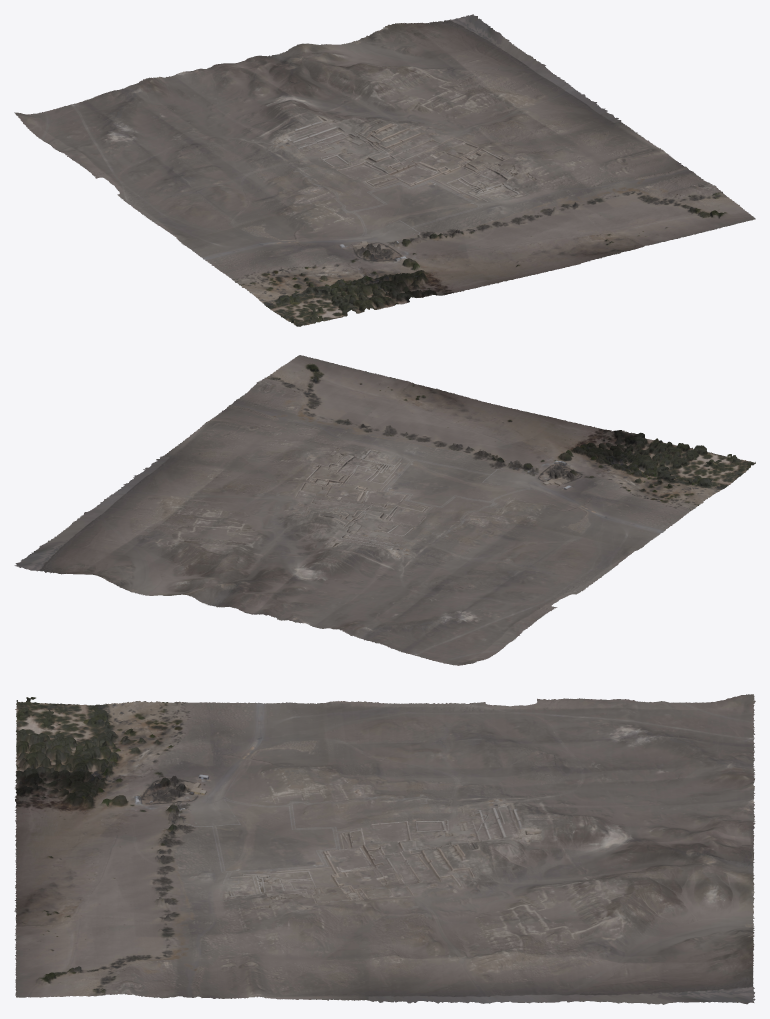
The model's file is sitio_arqueologico_cahuachi.glb.
The picture shows the model from 3 angles, top to bottom: view 1: azimuth 30°, elevation 25°; view 2: azimuth 150°, elevation 25°; view 3: azimuth 270°, elevation 25°; orthographic projection. The views are drawn at different scales.
Parts seen in each view (by area): view 1: Object_2, Object_4, Object_3, Object_5; view 2: Object_2, Object_4, Object_3, Object_5; view 3: Object_2, Object_4, Object_3, Object_5.
Part boxes in pixels (box(x1,y1,x2,y2)): Object_2: box(14, 14, 755, 295); Object_4: box(61, 15, 744, 322); Object_3: box(26, 23, 659, 292); Object_5: box(273, 148, 681, 326); Object_2: box(14, 355, 730, 665); Object_4: box(19, 363, 752, 633); Object_3: box(27, 425, 699, 663); Object_5: box(202, 406, 755, 485); Object_2: box(14, 694, 755, 1004); Object_4: box(15, 697, 755, 1002); Object_3: box(67, 700, 754, 1004); Object_5: box(15, 698, 314, 998).
Bounding box in the file's own units: 2.73 × 0.1251 × 2.92.
Materials: 2 (2 with a texture image).
